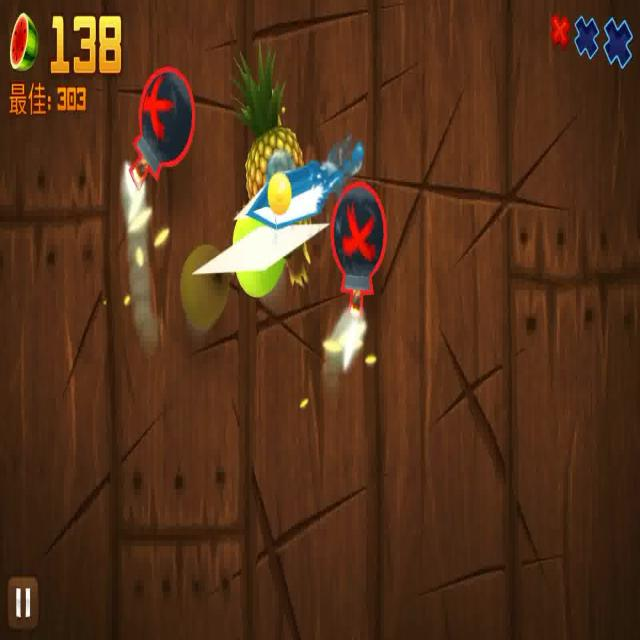bomb: (330, 183, 388, 329), (124, 68, 193, 186)
fruit: (233, 41, 307, 231), (177, 244, 231, 339), (233, 220, 287, 306)
